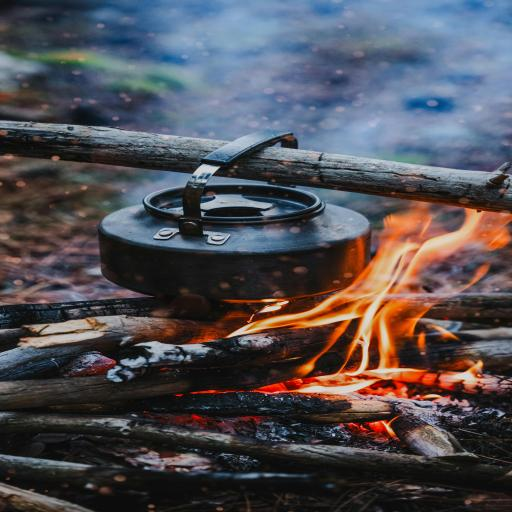campfire: (23, 197, 512, 508)
